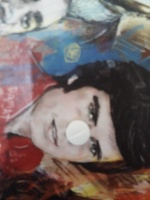Arveles: (65, 119, 92, 147)
